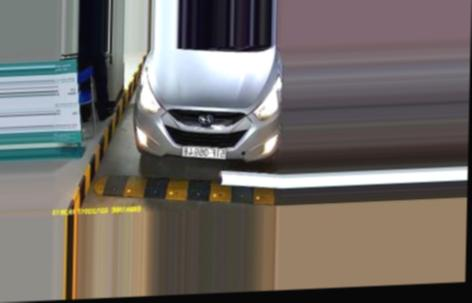License_Plate: (179, 144, 229, 164)
